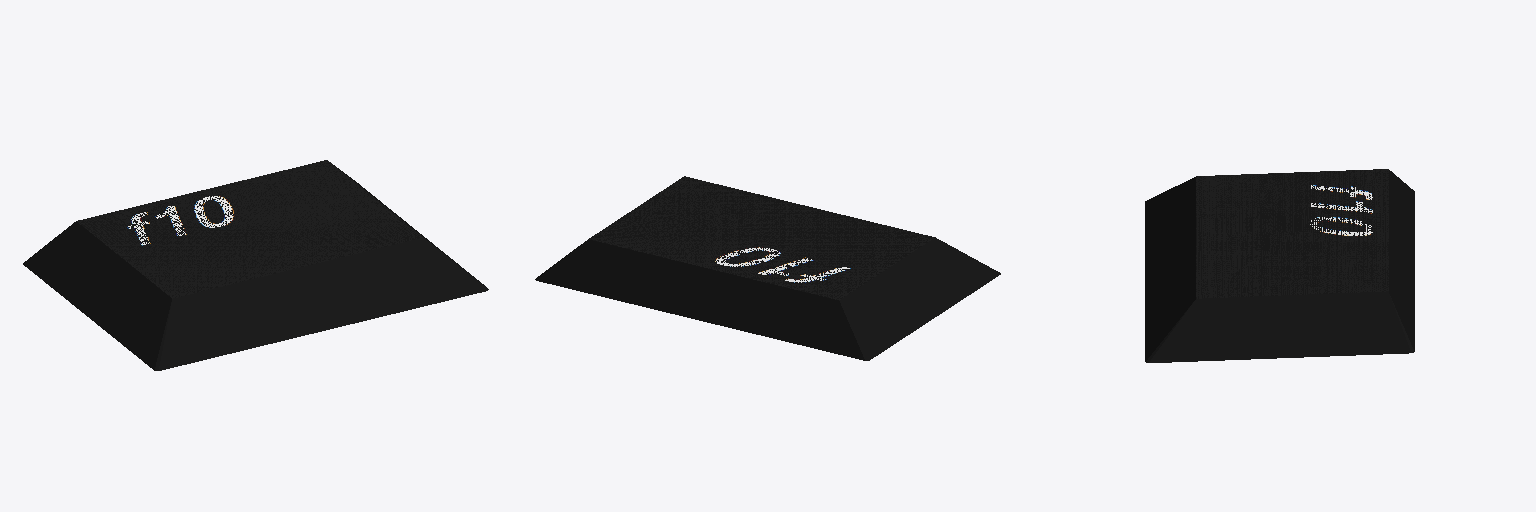
3 renders of one model, left to right at view 1: azimuth 30°, elevation 25°; view 2: azimuth 150°, elevation 25°; view 3: azimuth 270°, elevation 25°, orthographic.
Parts seen in each view (by area): view 1: Group70/mesh67/mesh67-geometry#mesh67-geometry; view 2: Group70/mesh67/mesh67-geometry#mesh67-geometry; view 3: Group70/mesh67/mesh67-geometry#mesh67-geometry.
Part boxes in pixels (x1,y1,x2,y2): Group70/mesh67/mesh67-geometry#mesh67-geometry: (23, 160, 488, 370); Group70/mesh67/mesh67-geometry#mesh67-geometry: (535, 176, 1000, 360); Group70/mesh67/mesh67-geometry#mesh67-geometry: (1145, 169, 1414, 362).
Size of the model in its own units: 0.0754 by 0.0111 by 0.0525.
2 materials, 1 textured.